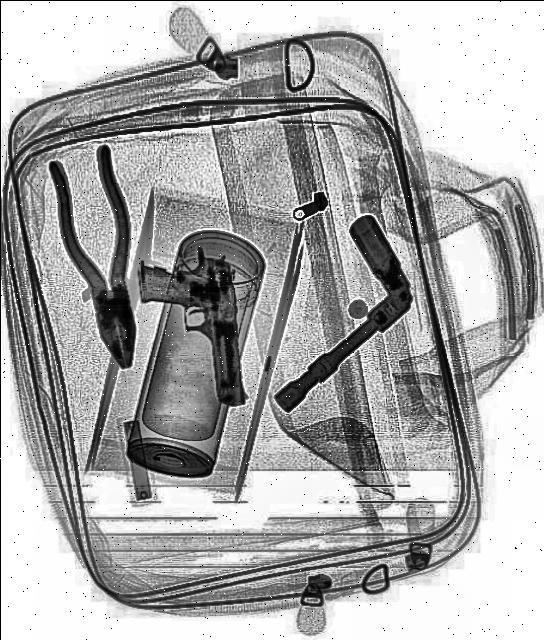Gun: (135, 238, 249, 416)
Pliers: (46, 140, 164, 376)
